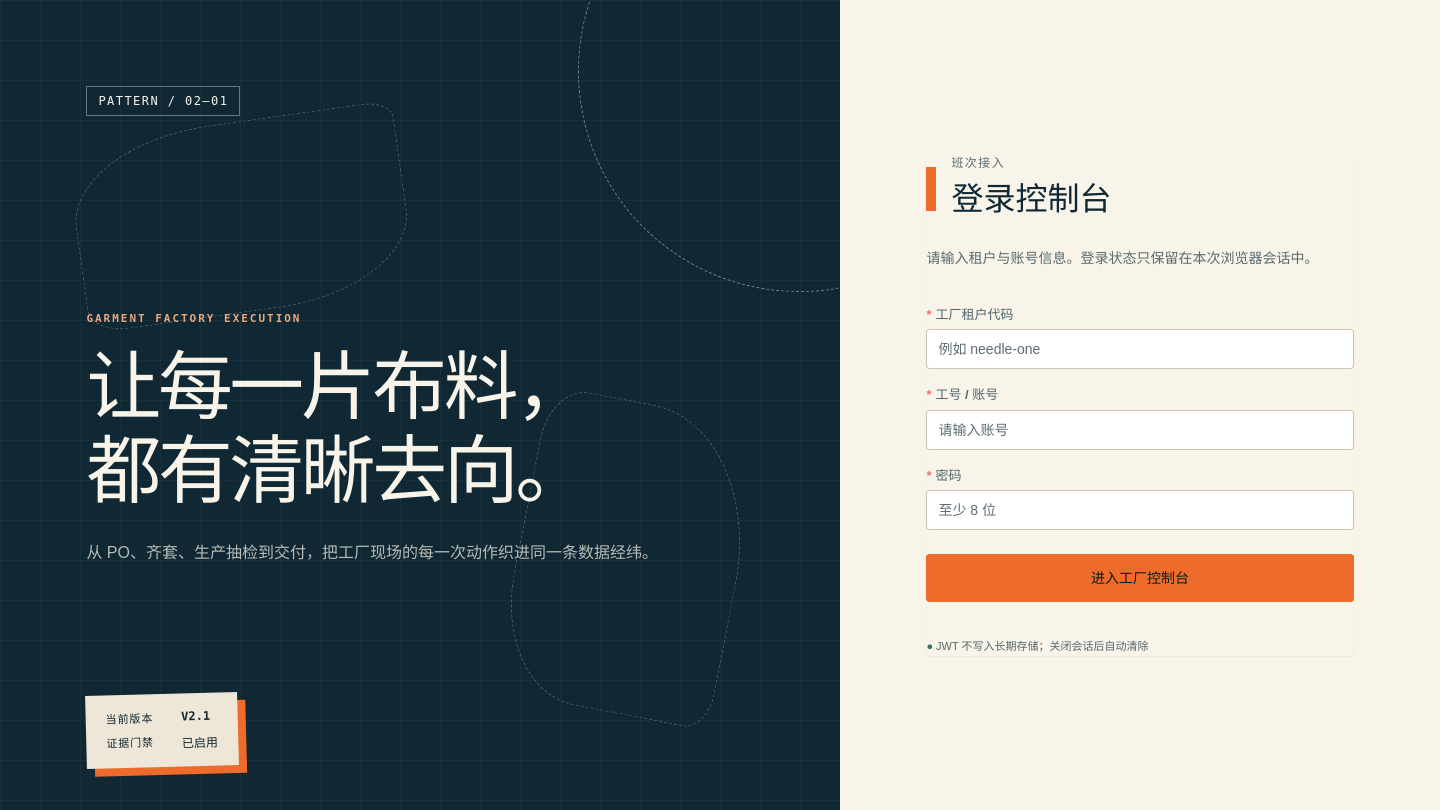
Test case: LoginView › shows a public login message and trace ID after failure
The width and height of the screenshot is (1440, 810).
Type "needle-one" into the field named "tenantCode" at [1140, 349], box [938, 333, 1342, 365]
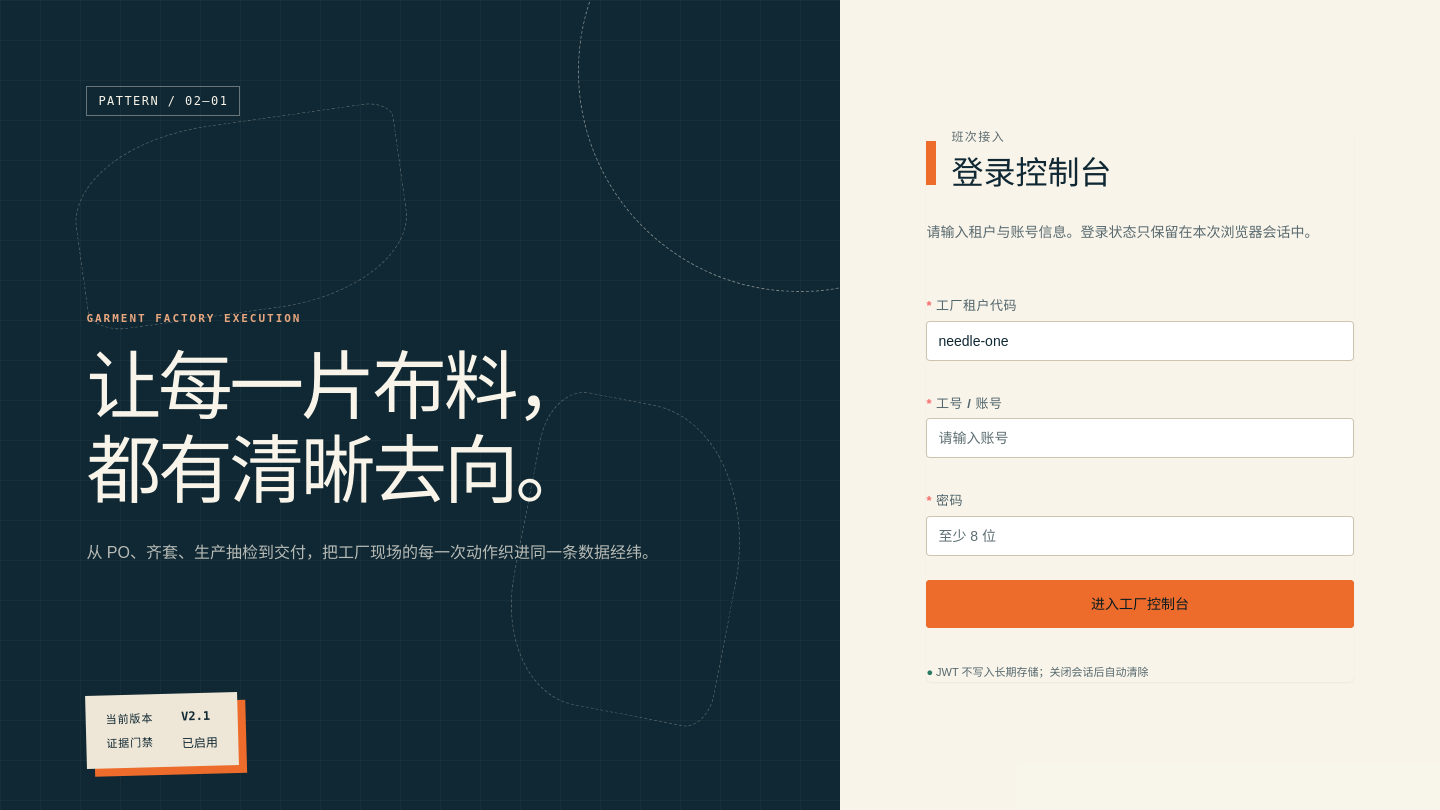
Type "planner" into the field named "username" at [1140, 438], box [938, 422, 1342, 454]
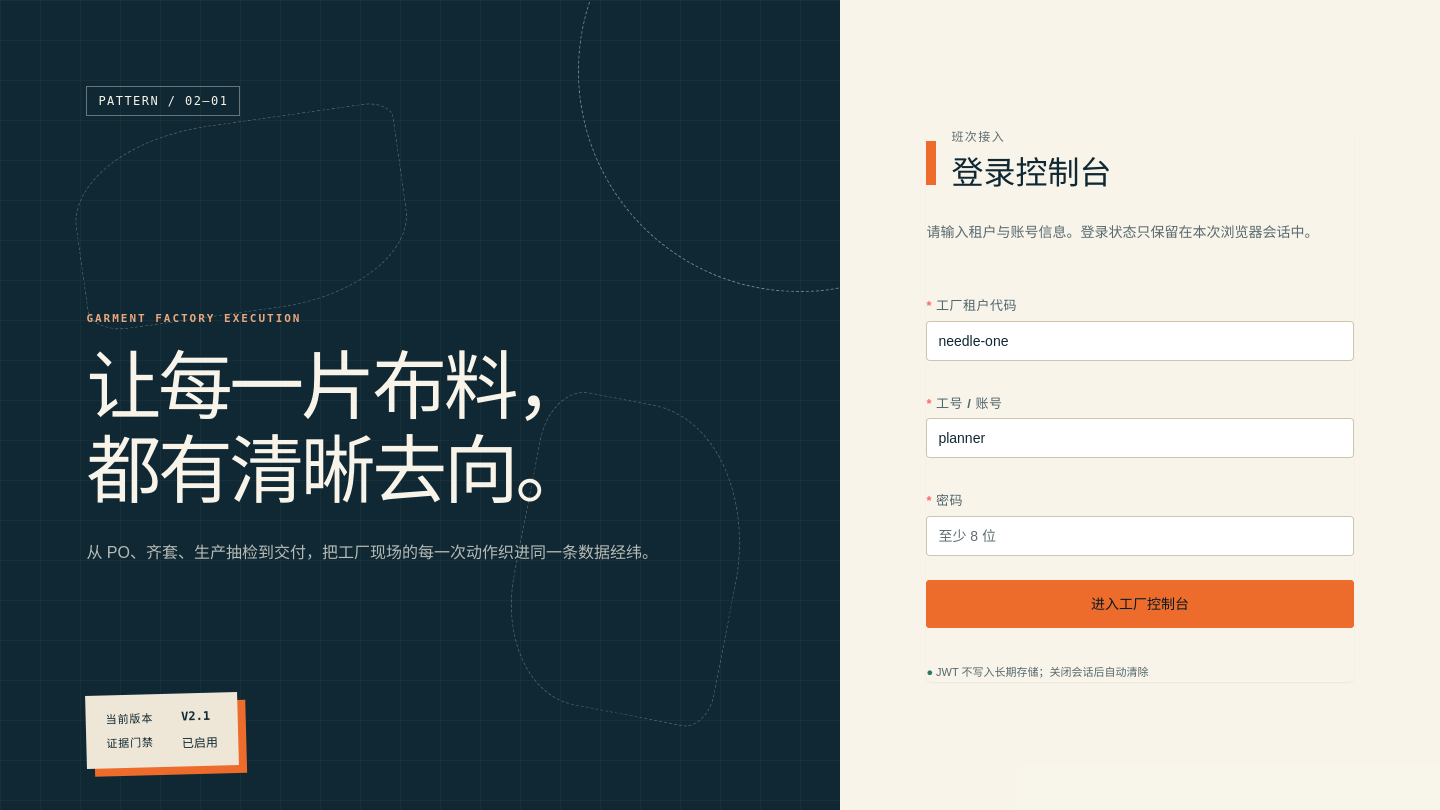
Type "bad-password" into the password field named "password" at [1140, 536], box [938, 520, 1342, 552]
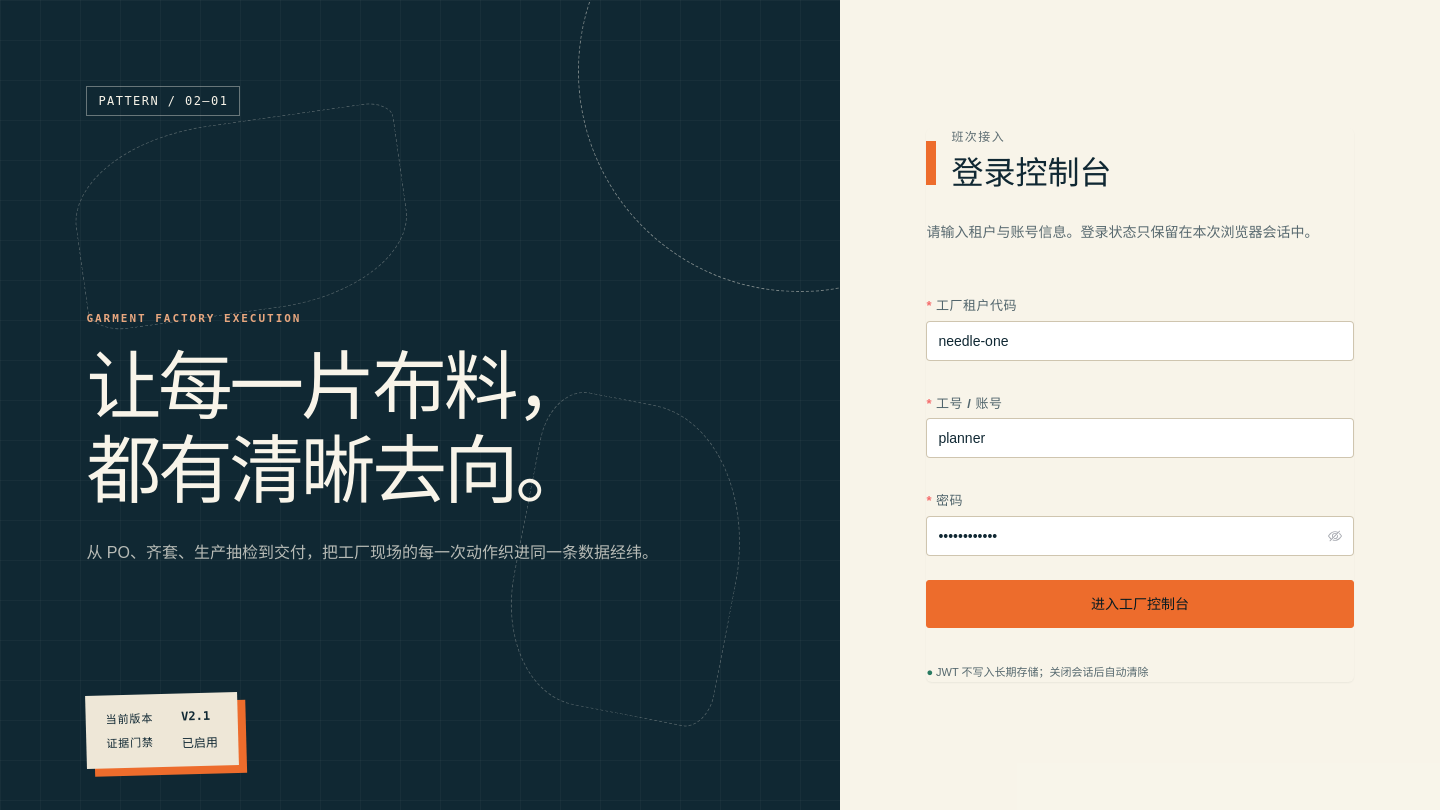
Submit the form, box [926, 279, 1354, 644]
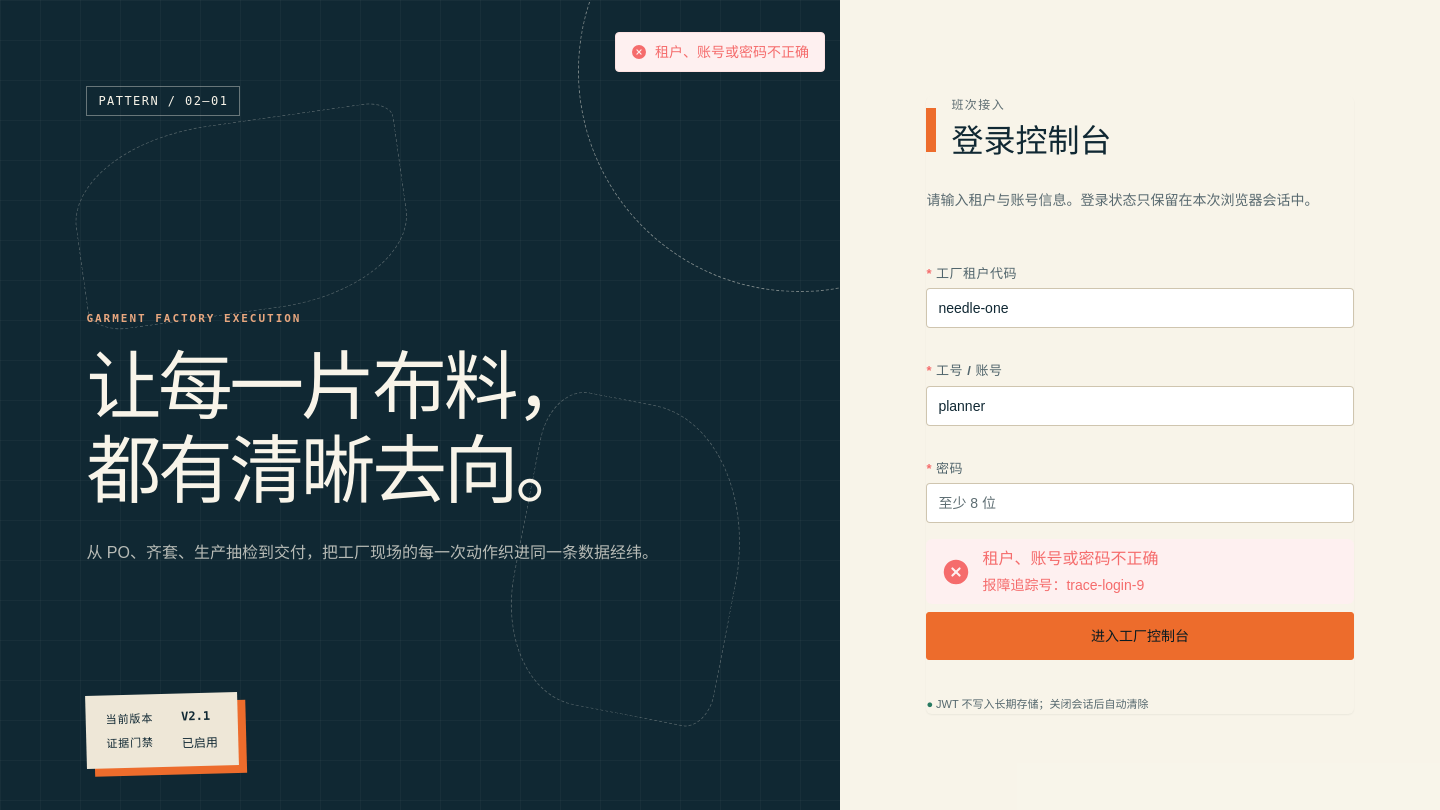
Check: the text "租户、账号或密码不正确" is shown, box [982, 547, 1158, 571]
Check: the text "trace-login-9" is shown, box [982, 577, 1144, 593]
